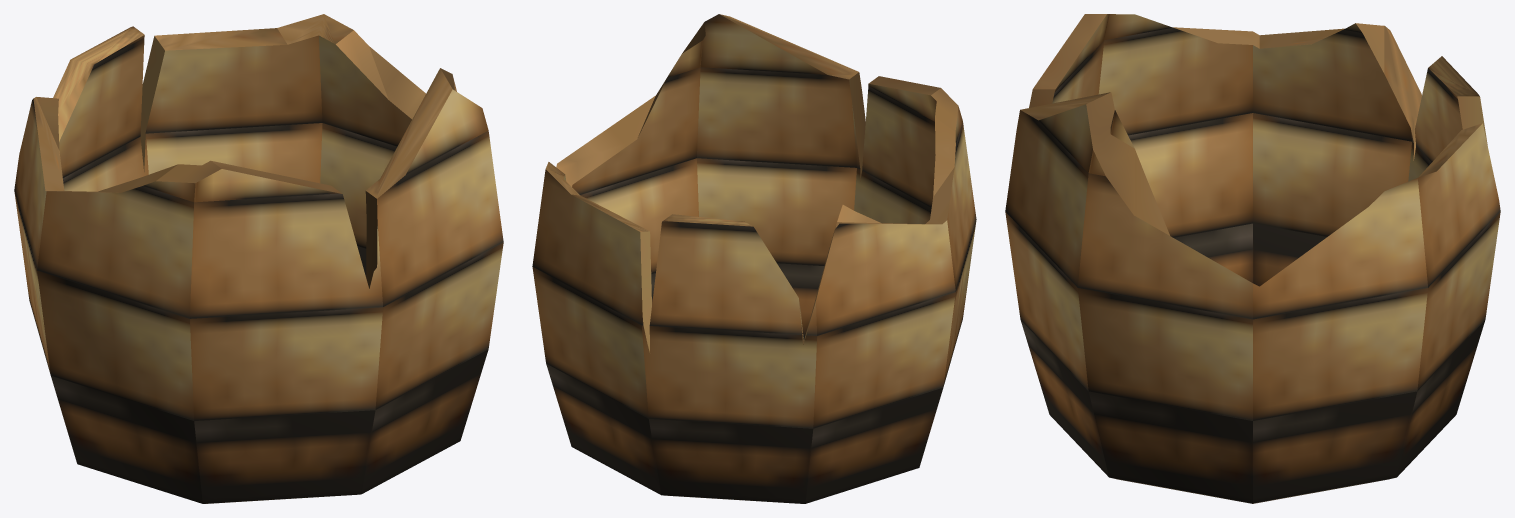
The model's file is Inside_Poly_Barrel_01_Damaged.obj.
The picture shows the model from 3 angles, left to right: view 1: azimuth 30°, elevation 25°; view 2: azimuth 150°, elevation 25°; view 3: azimuth 270°, elevation 25°; orthographic projection. The views are drawn at different scales.
Parts seen in each view (by area): view 1: Sphere_Sphere.003; view 2: Sphere_Sphere.003; view 3: Sphere_Sphere.003.
Boxes of the visible parts, left/top/right/bottom form: Sphere_Sphere.003: left=14, top=14, right=503, bottom=503; Sphere_Sphere.003: left=532, top=14, right=976, bottom=503; Sphere_Sphere.003: left=1005, top=14, right=1500, bottom=503.
Size of the model in its own units: 0.6851 by 0.5639 by 0.6641.
1 material, 1 textured.
